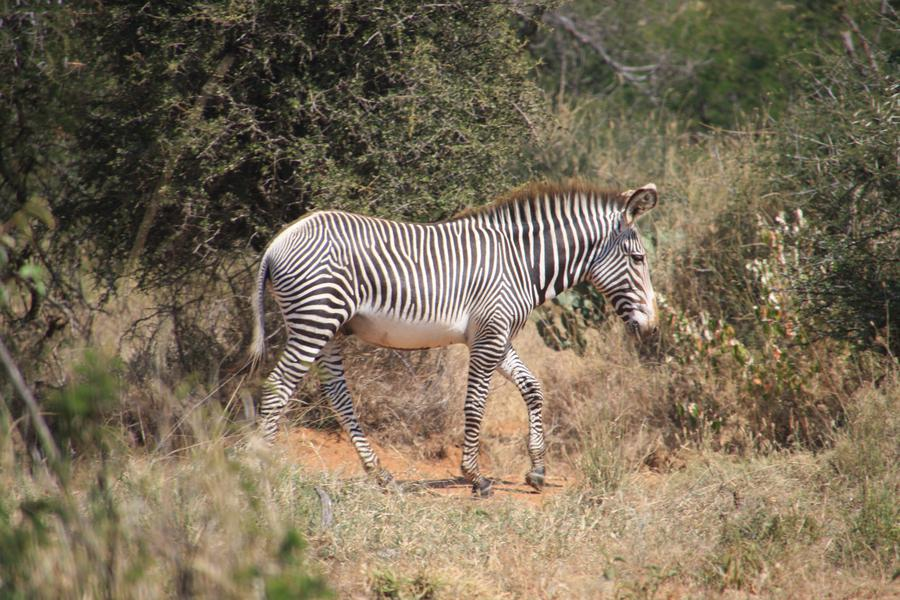zebra_grevys: (254, 206, 528, 340)
